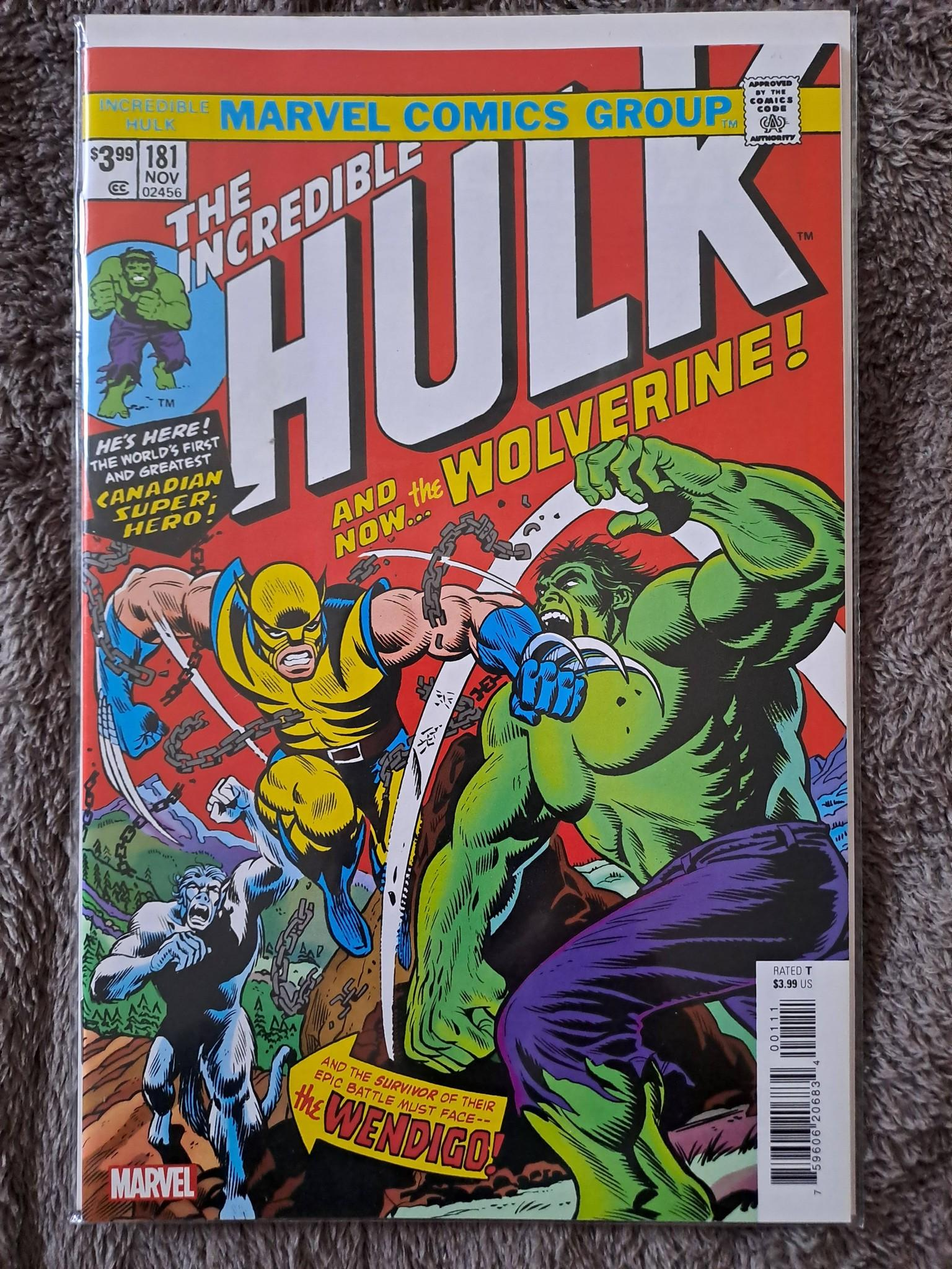comic: (76, 12, 856, 1222)
